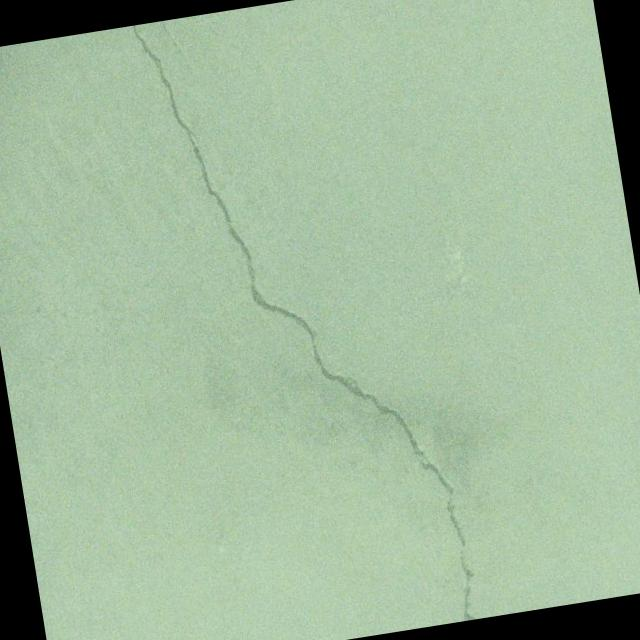crack: (130, 0, 481, 640), (162, 17, 196, 80)
